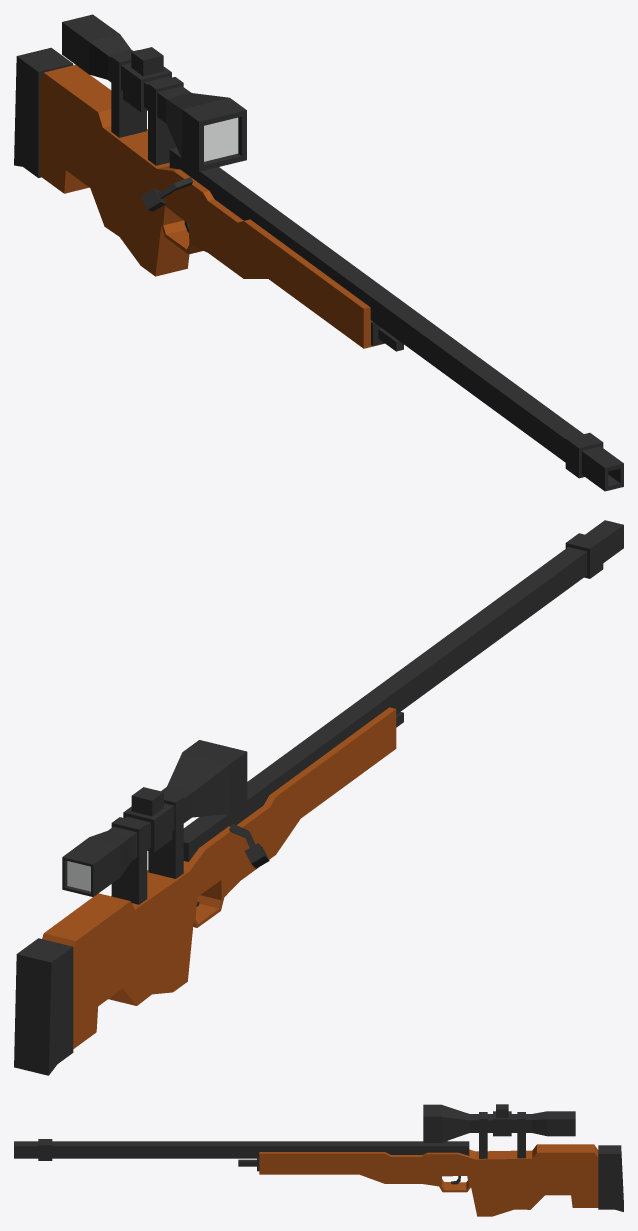
File: snip.glb
The picture shows the model from 3 angles, top to bottom: view 1: azimuth 30°, elevation 25°; view 2: azimuth 150°, elevation 25°; view 3: azimuth 270°, elevation 25°; orthographic projection. The views are drawn at different scales.
Visible parts, largest first — view 1: AWM_Sniper_Rifle, 12x_Scope, AWM_Sniper_Rifle.001; view 2: AWM_Sniper_Rifle, 12x_Scope; view 3: AWM_Sniper_Rifle, 12x_Scope.
Part boxes in pixels (box(x1,y1,x2,y2)): AWM_Sniper_Rifle: box(14, 47, 623, 491); 12x_Scope: box(62, 14, 246, 171); AWM_Sniper_Rifle.001: box(141, 177, 193, 211); AWM_Sniper_Rifle: box(14, 520, 623, 1075); 12x_Scope: box(62, 740, 247, 904); AWM_Sniper_Rifle: box(14, 1139, 623, 1216); 12x_Scope: box(423, 1104, 575, 1158).
Size of the model in its own units: 0.1018 by 0.2283 by 1.2.
Materials: 3 (1 with a texture image).
